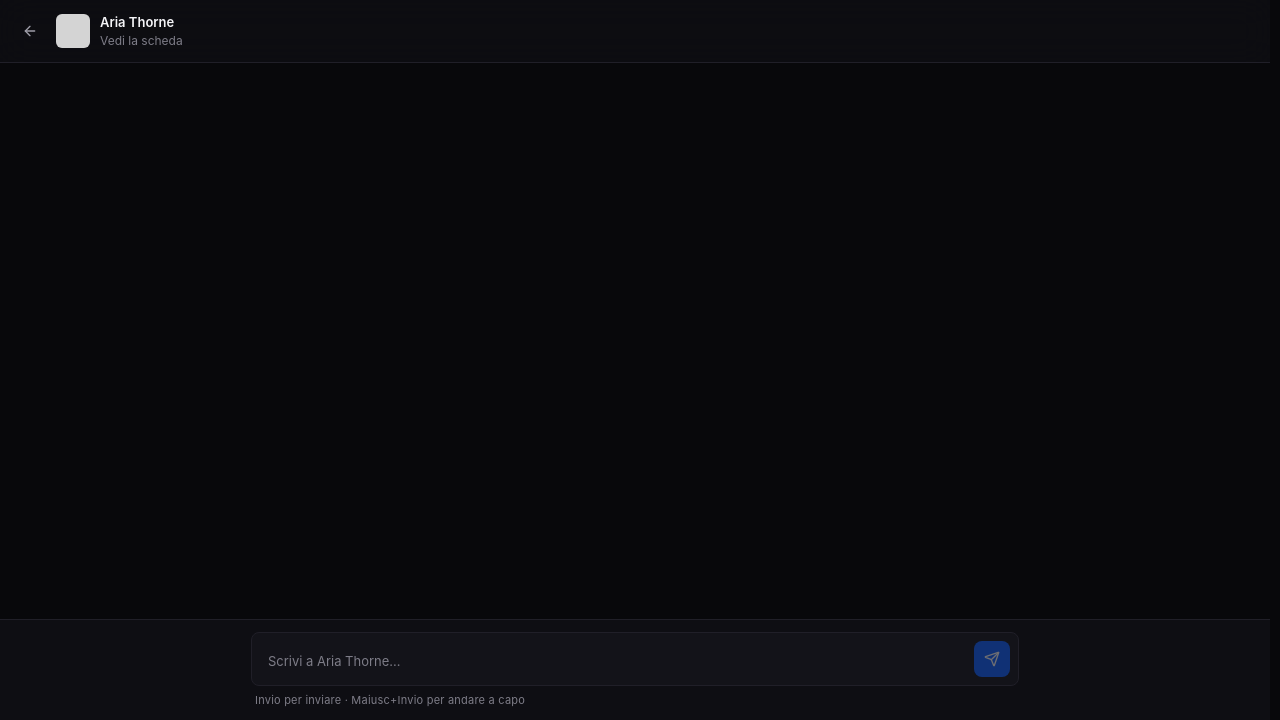
it: ChatPage › una risposta interrotta dalla moderazione sostituisce il testo già trasmesso
This screenshot has width=1280, height=720.
In the text box with placeholder "Scrivi a Aria Thorne…": (613, 661) top-left (260, 645), bottom-right (966, 677), type "racconta"
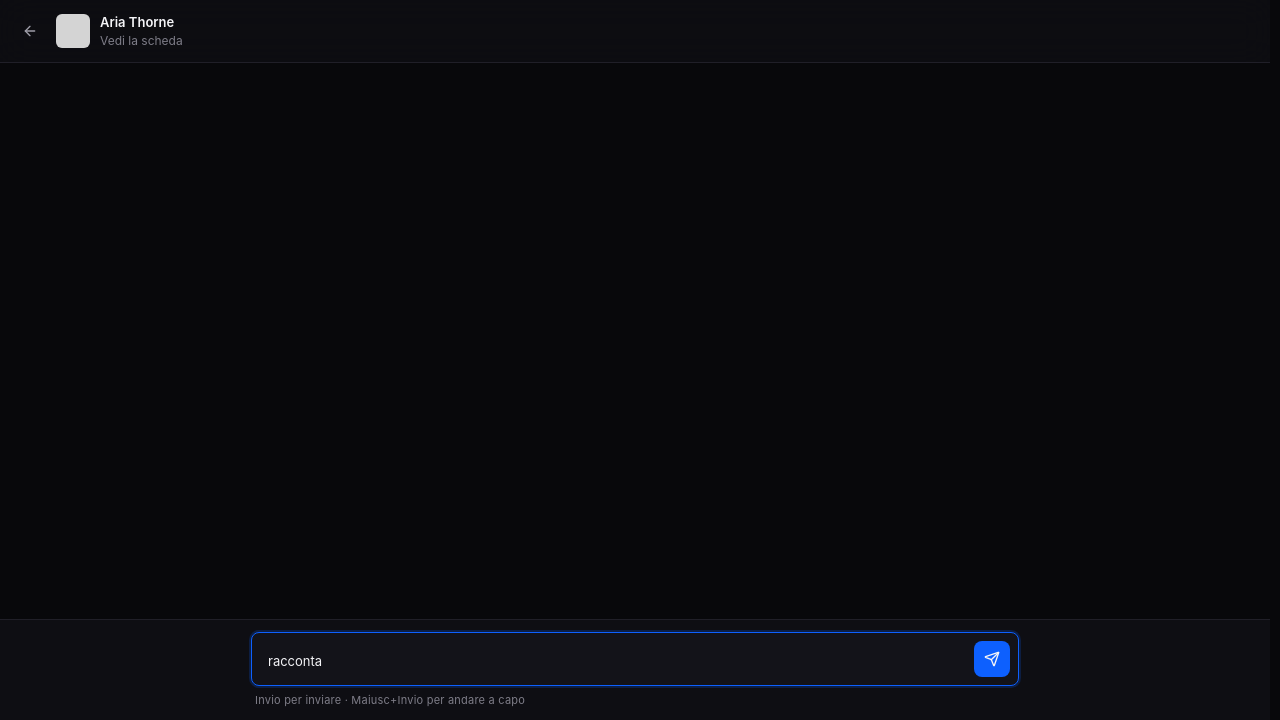
Click the button named "invia": (992, 659) top-left (974, 641), bottom-right (1010, 677)
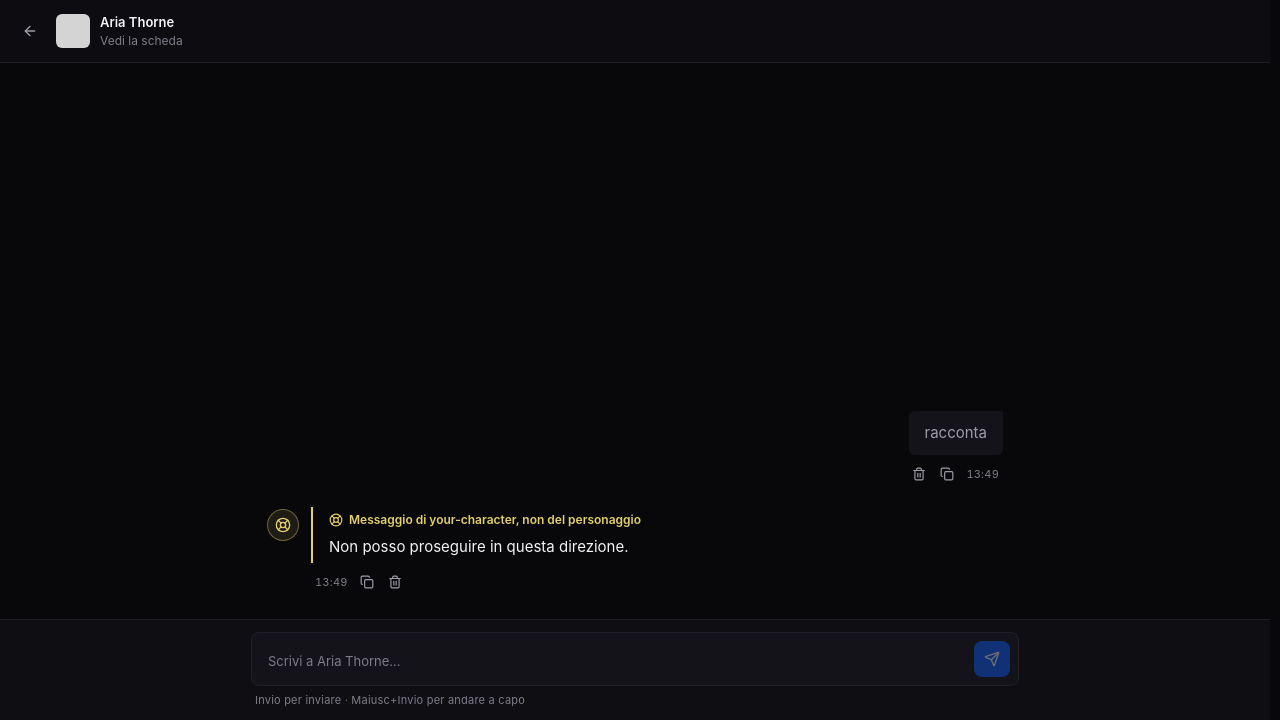
Check: the text "Non posso proseguire in questa direzione." is shown, box top-left (329, 537), bottom-right (628, 556)
